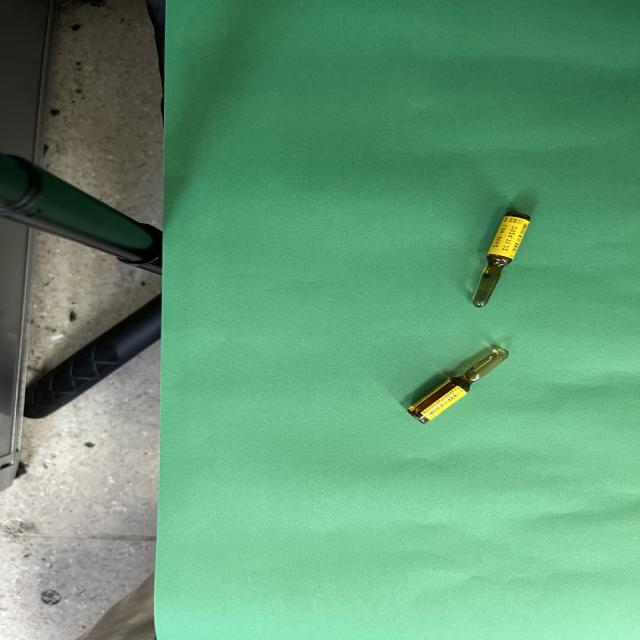Ampoules: (408, 348, 508, 424), (473, 212, 530, 308)
